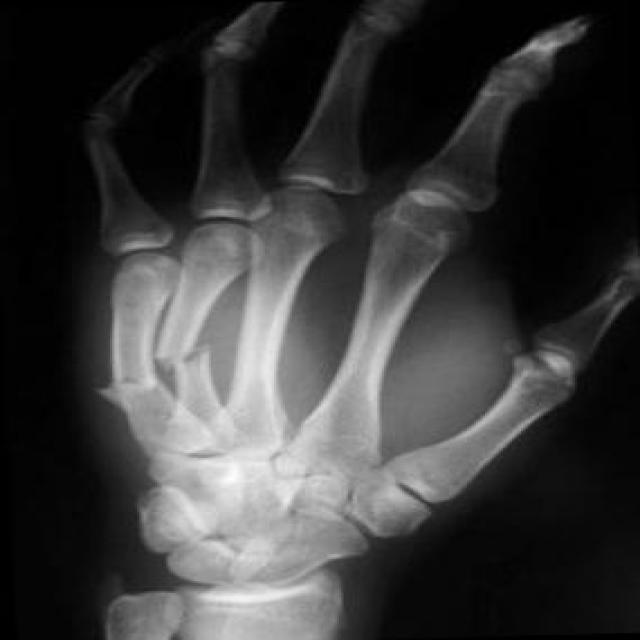Transverse Displaced: (93, 349, 169, 426), (146, 322, 218, 378)
